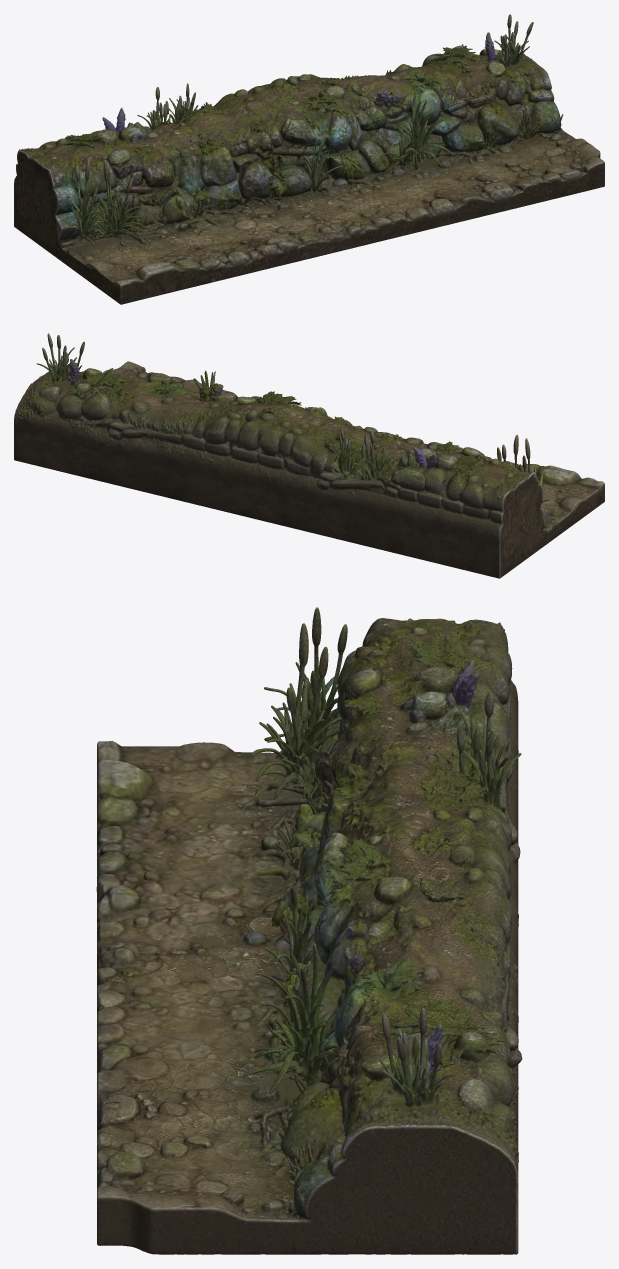
The model's file is Meshy_AI_riverbank_straight_0823035011_image-to-3d-texture.glb.
3 renders of one model, top to bottom at view 1: azimuth 30°, elevation 25°; view 2: azimuth 150°, elevation 25°; view 3: azimuth 270°, elevation 25°, orthographic. The views are drawn at different scales.
Parts seen in each view (by area): view 1: mesh_node; view 2: mesh_node; view 3: mesh_node.
Part boxes in pixels (x1=…): mesh_node: x1=14, y1=14, x2=604, y2=304; mesh_node: x1=14, y1=333, x2=604, y2=578; mesh_node: x1=96, y1=607, x2=522, y2=1254.
Size of the model in its own units: 1.9 by 0.4225 by 0.7191.
Materials: 1 (1 with a texture image).
